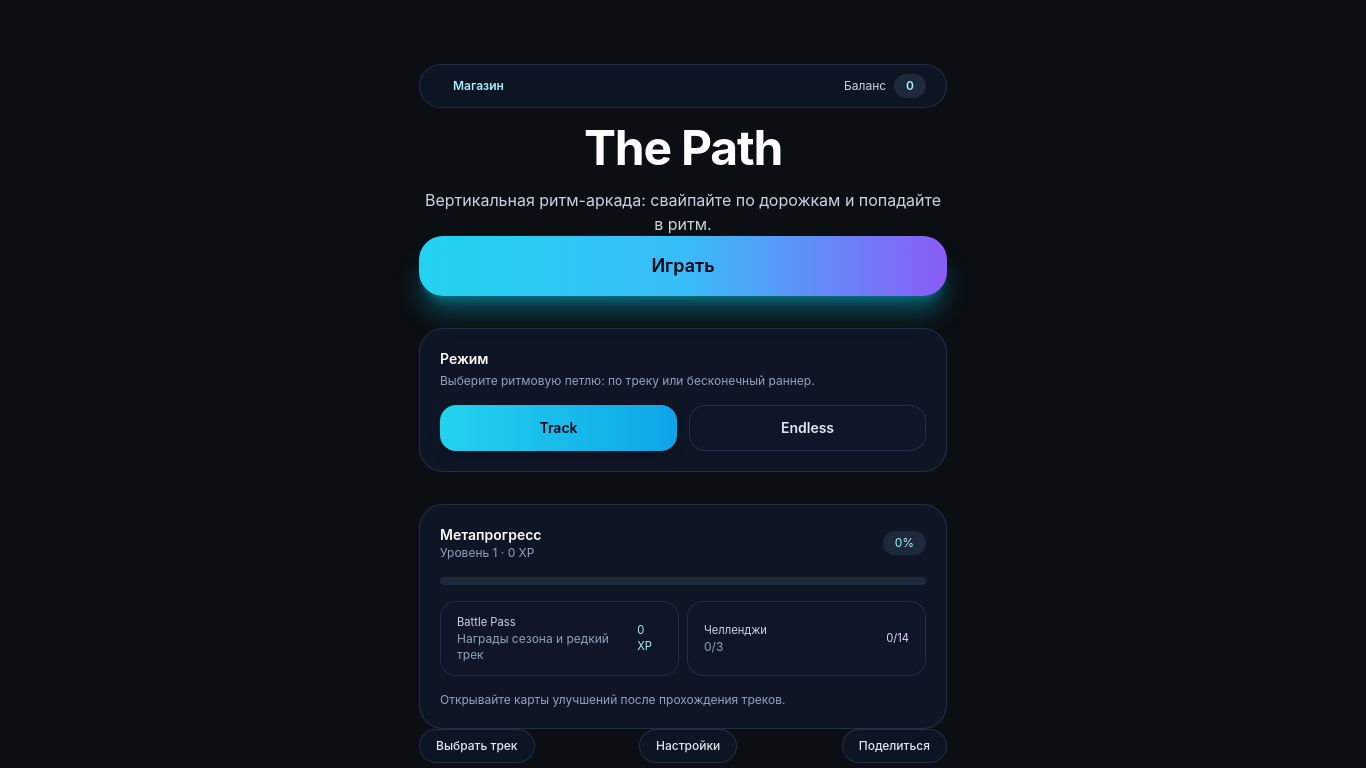
App › navigates to song select screen
Click the button "Выбрать трек" at {"x": 477, "y": 746}, box [419,729,534,763]
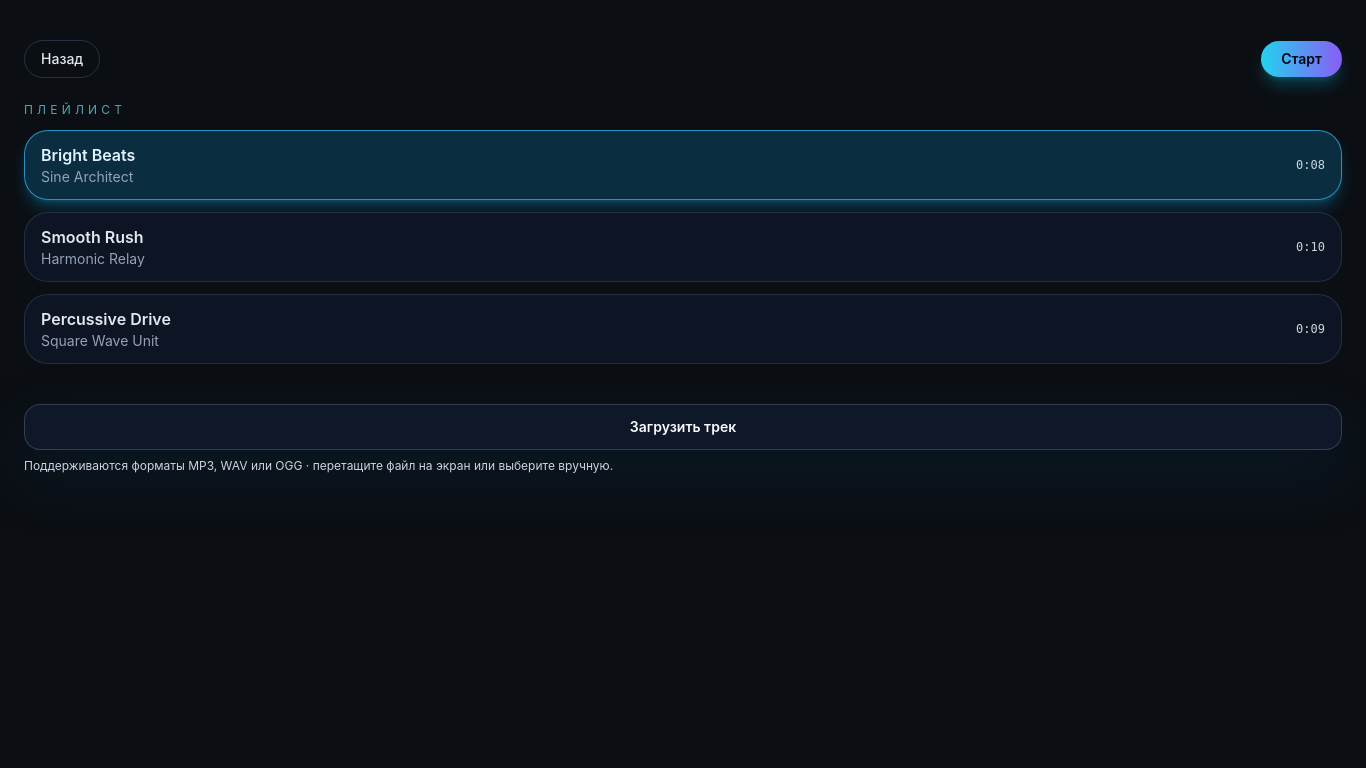
Now the heading "Плейлист" is shown, box [24,102,126,117]
Now the button "Назад" is shown, box [24,40,100,78]
